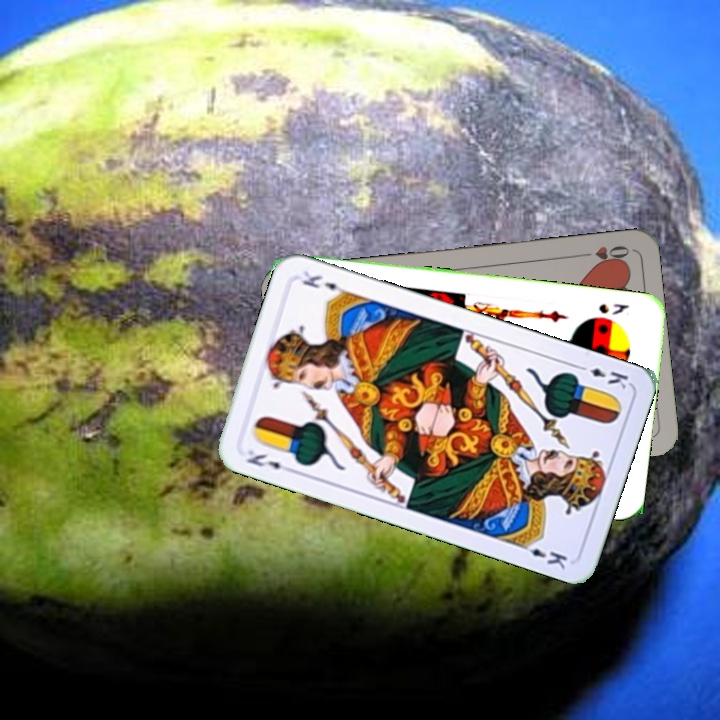EK: (573, 360, 631, 392), (242, 446, 296, 476)
HO: (574, 241, 632, 267)
SK: (594, 299, 632, 317)
